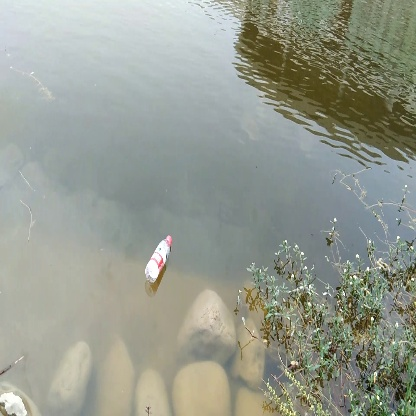bottle: (142, 233, 177, 286)
